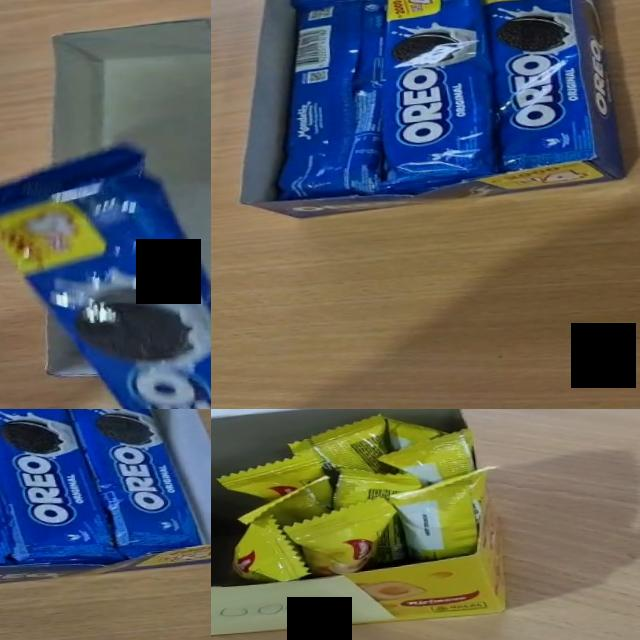Ahh: (386, 464, 502, 564), (328, 460, 429, 570), (280, 497, 402, 579), (284, 412, 394, 481), (214, 448, 330, 504), (373, 427, 477, 488), (226, 511, 311, 585), (235, 474, 336, 530), (384, 412, 451, 452)
Oreo: (0, 125, 211, 409), (362, 0, 505, 197), (261, 0, 396, 201), (55, 409, 202, 564), (0, 409, 123, 573), (479, 0, 596, 172)
